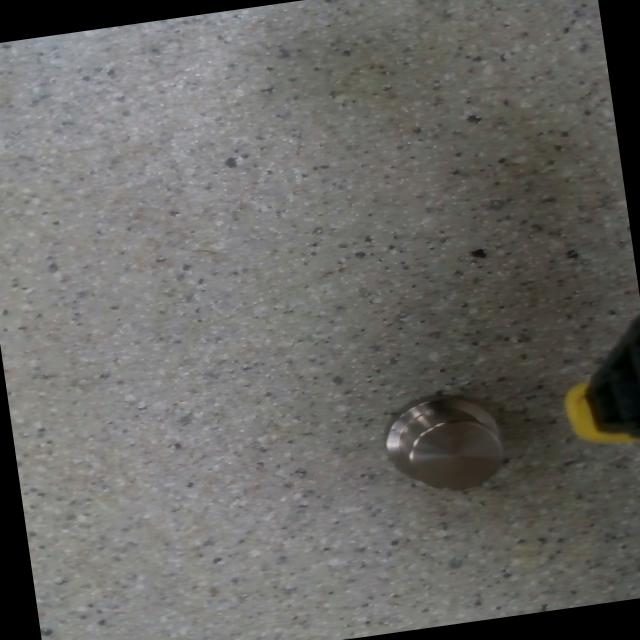sensor: (378, 385, 511, 501)
